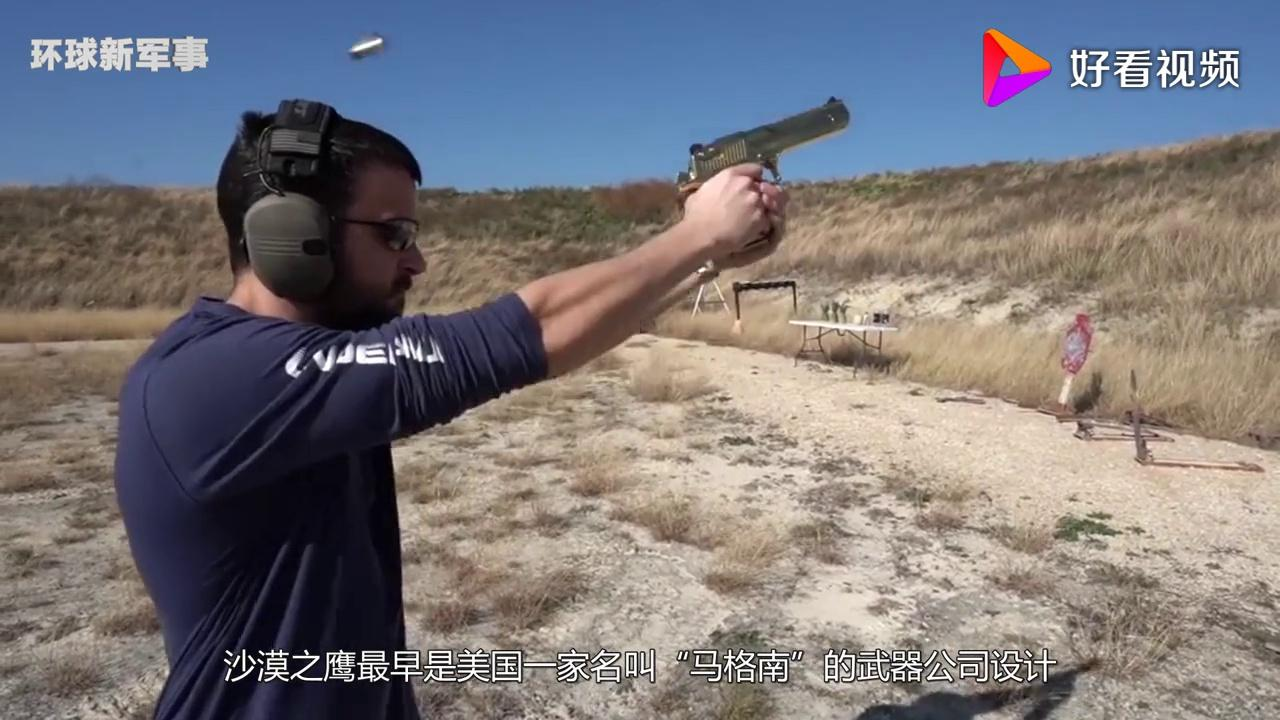gun: (666, 90, 857, 265)
